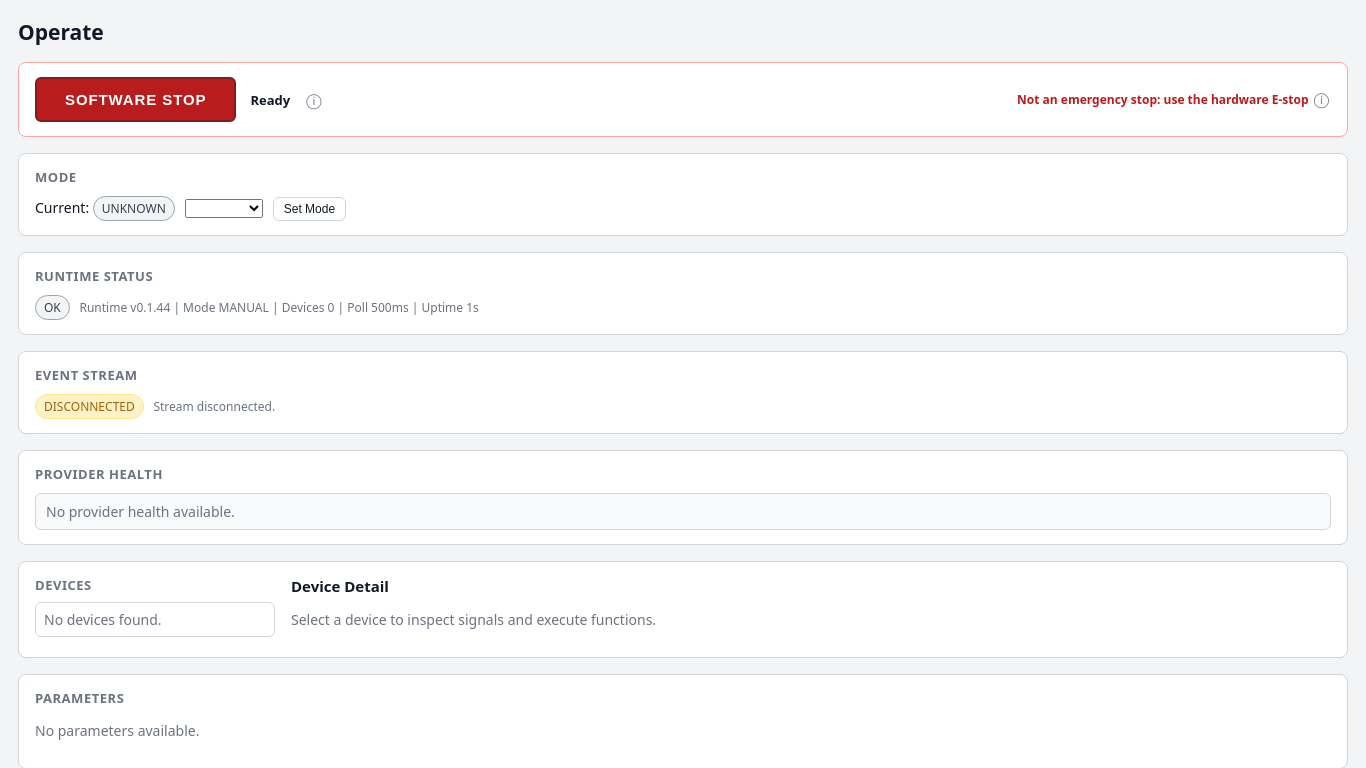
Scenario: Operate.svelte — the safe-state note (#346) › names the variant file of the variant that launches
Expected: the text with test id "estop-state" does not show "Loading", [250, 90, 290, 108]
Click the button named "About ".
click(314, 100)  # box [304, 92, 324, 107]
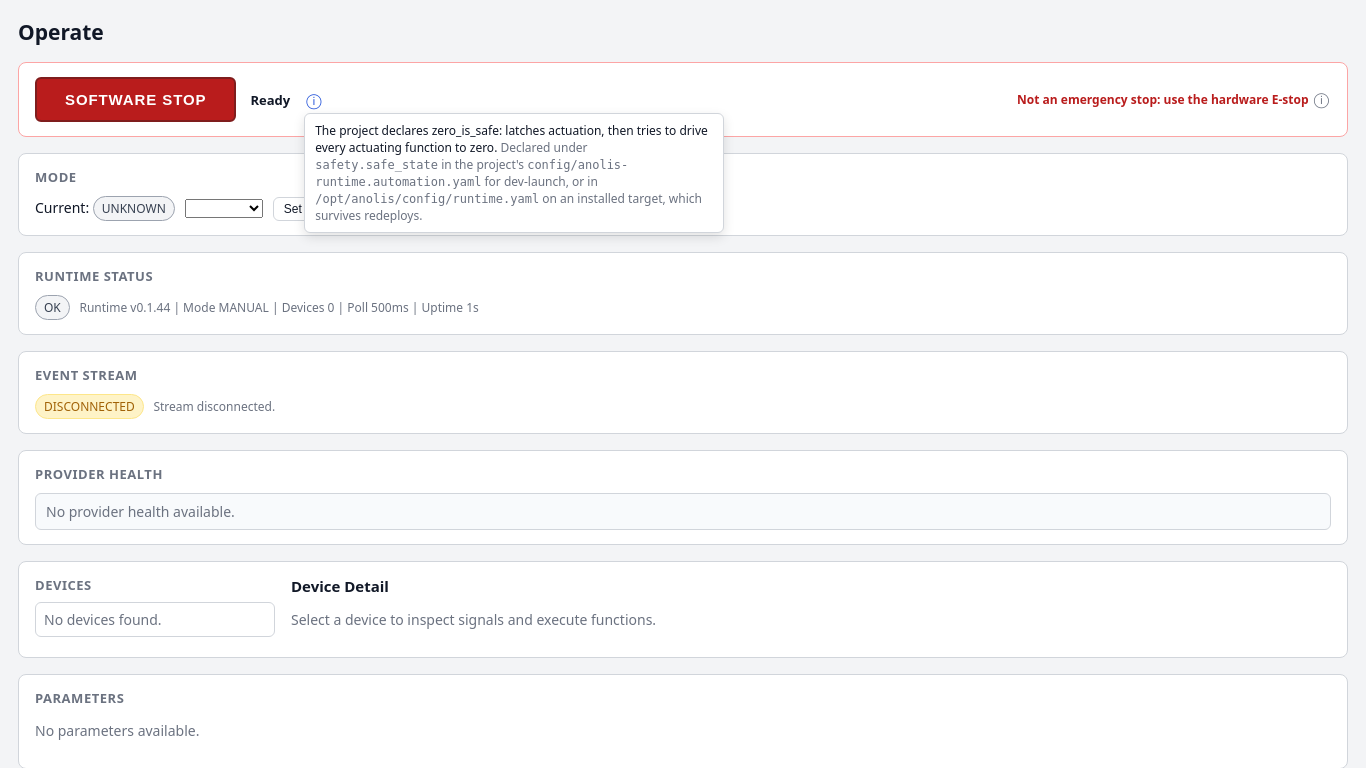
Expected: the element with test id "safe-state-fix" shows "config/anolis-runtime.automation.yaml", [315, 158, 628, 189]
